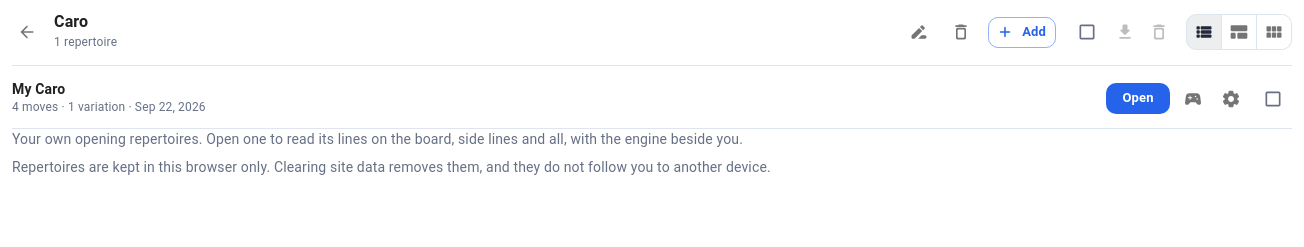
Test case: repertoire folders on the list › shows only its own repertoires inside a folder, with no folders in it, and a way back
This screenshot has width=1304, height=247.
Click the link with test id "repertoires-folder-back" at (27, 32), box [17,22,37,42]
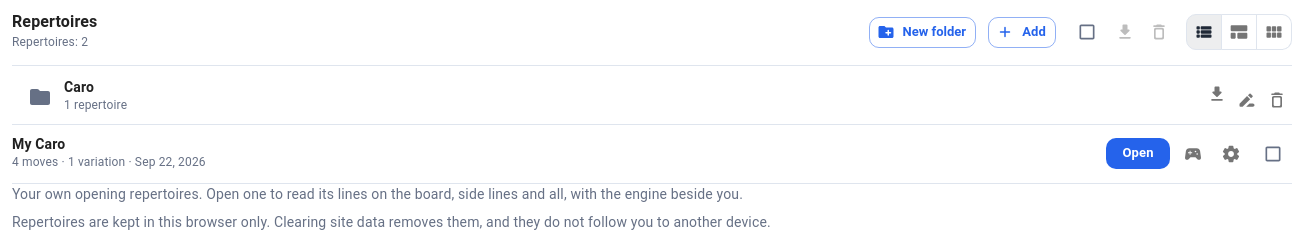
Expected: the list item with test id "repertoires-item-a" is shown, [12,125,1292,184]
Now the heading with test id "repertoires-title" reads "Repertoires", box [12,12,98,31]
